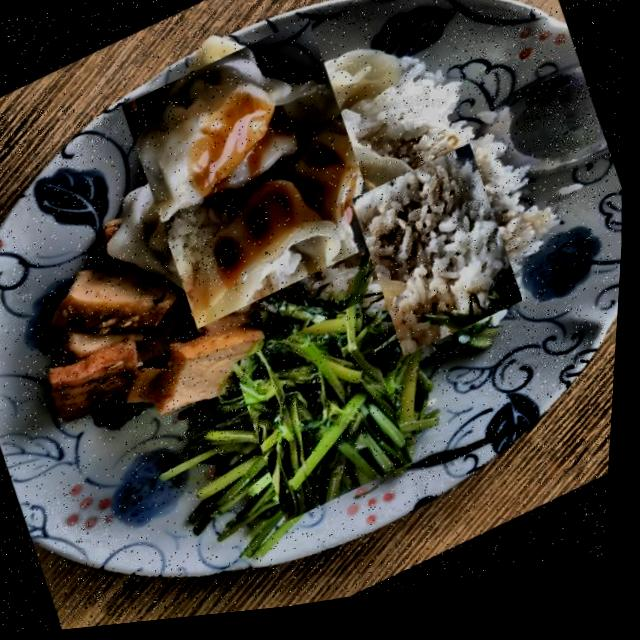Food: (101, 19, 409, 337), (221, 309, 436, 531), (337, 153, 545, 368)
